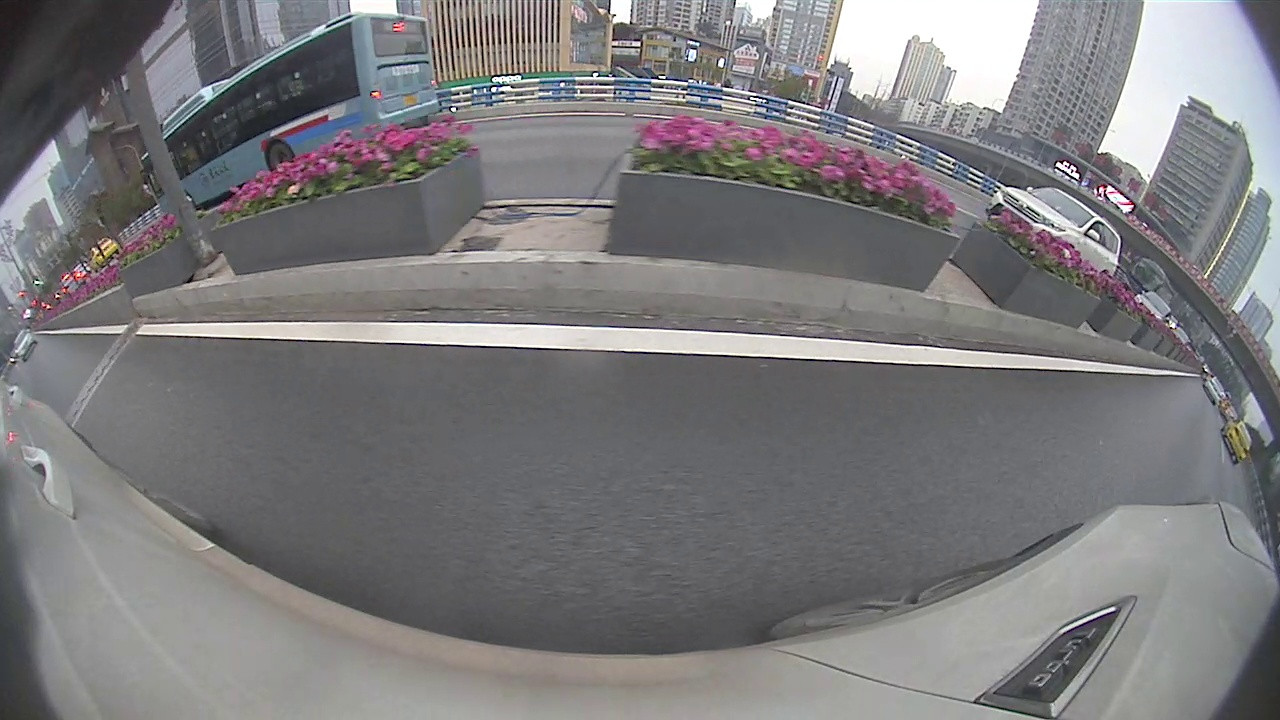car: (1219, 417, 1253, 466)
rear: (268, 141, 294, 167)
